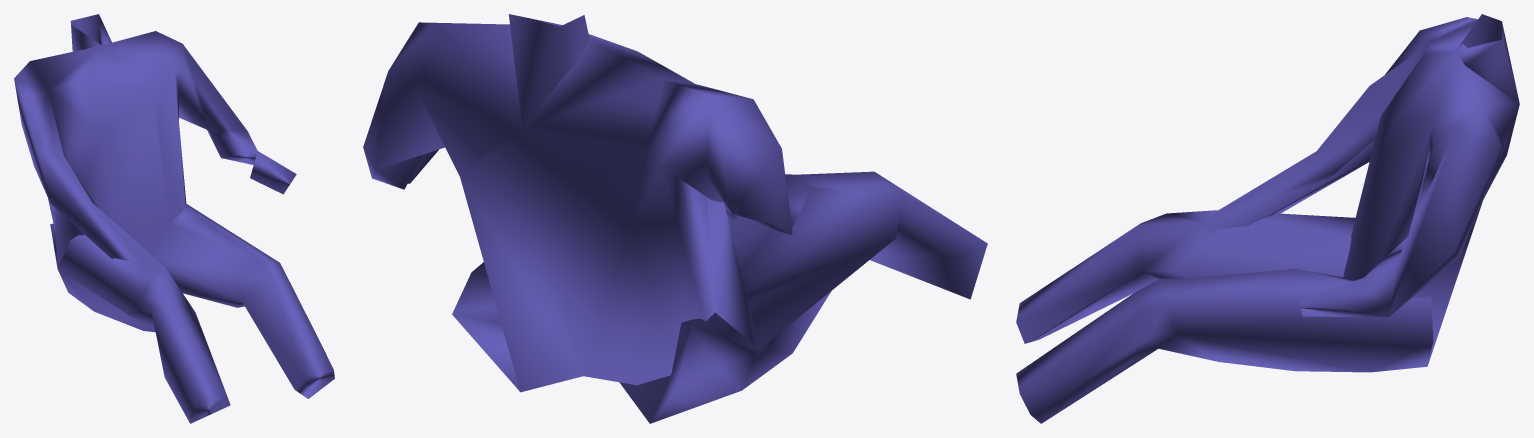
File: m_jet_e5331cd1.glb
3 views of the same model, side by side, from view 1: azimuth 30°, elevation 25°; view 2: azimuth 150°, elevation 25°; view 3: azimuth 270°, elevation 25° (orthographic). The views are drawn at different scales.
Visible parts, largest first — view 1: mesh; view 2: mesh; view 3: mesh.
Part boxes in pixels (<box>): mesh: <box>14,14,334,423</box>; mesh: <box>363,14,987,423</box>; mesh: <box>1016,14,1519,423</box>.
Bounding box in the file's own units: 491 × 560 × 704.
